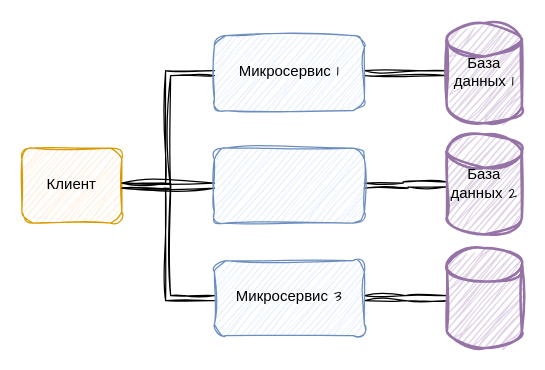
The diagram is 545 pixels wide and 370 high, and some of its shapes have lost their labels. Each missing label, with the centre of its shape:
"База данных 3" belongs at [483,297].
"Микросервис 2" belongs at [288,185].
